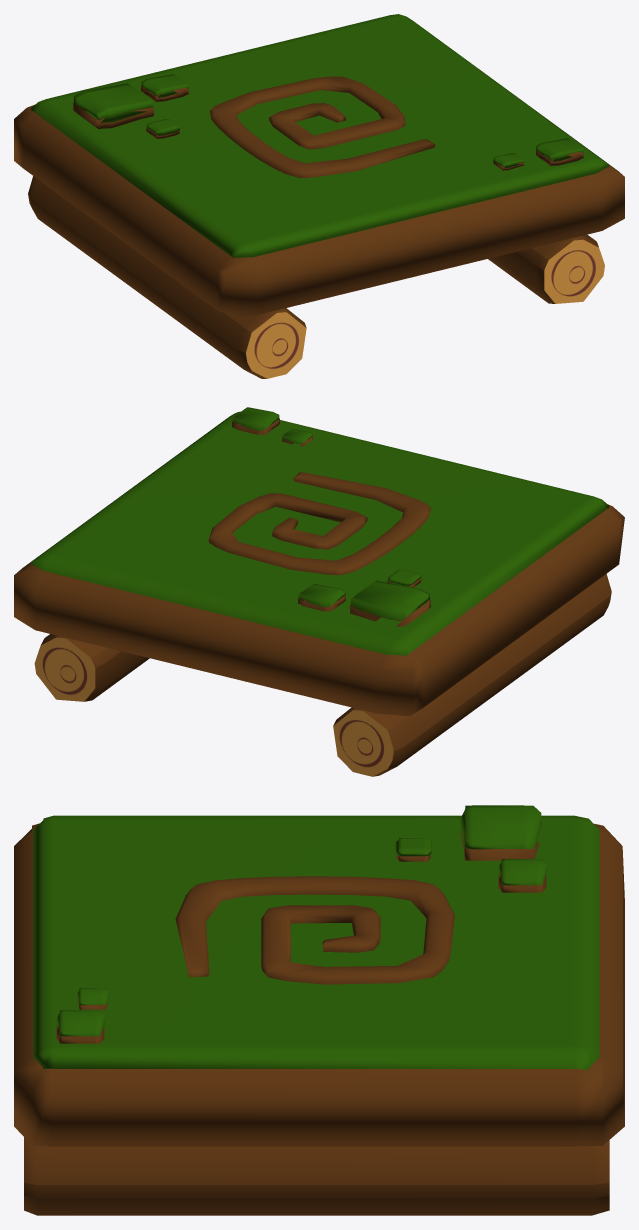
File: ElevatorNewLow.fbx
3 views of the same model, one above another, from view 1: azimuth 30°, elevation 25°; view 2: azimuth 150°, elevation 25°; view 3: azimuth 270°, elevation 25° (orthographic). The views are drawn at different scales.
Parts seen in each view (by area): view 1: ElevatorNew25; view 2: ElevatorNew25; view 3: ElevatorNew25.
Boxes of the visible parts, bbox=[...] form: ElevatorNew25: bbox=[14, 14, 624, 378]; ElevatorNew25: bbox=[14, 407, 624, 776]; ElevatorNew25: bbox=[14, 805, 624, 1215].
Size of the model in its own units: 2.14 by 0.7705 by 2.1.
